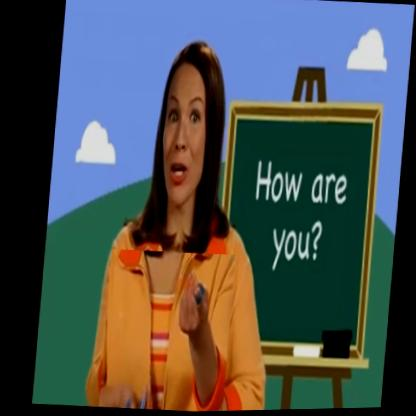HowAreYou: (99, 248, 236, 414)
